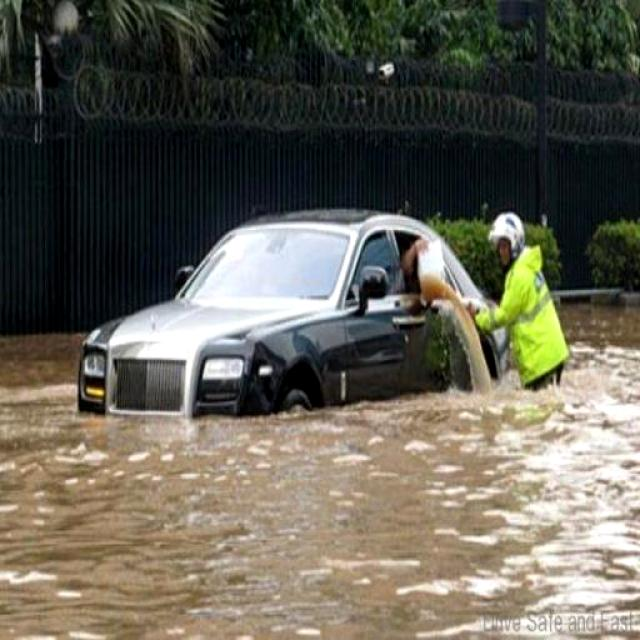rescuer: (462, 198, 584, 404)
